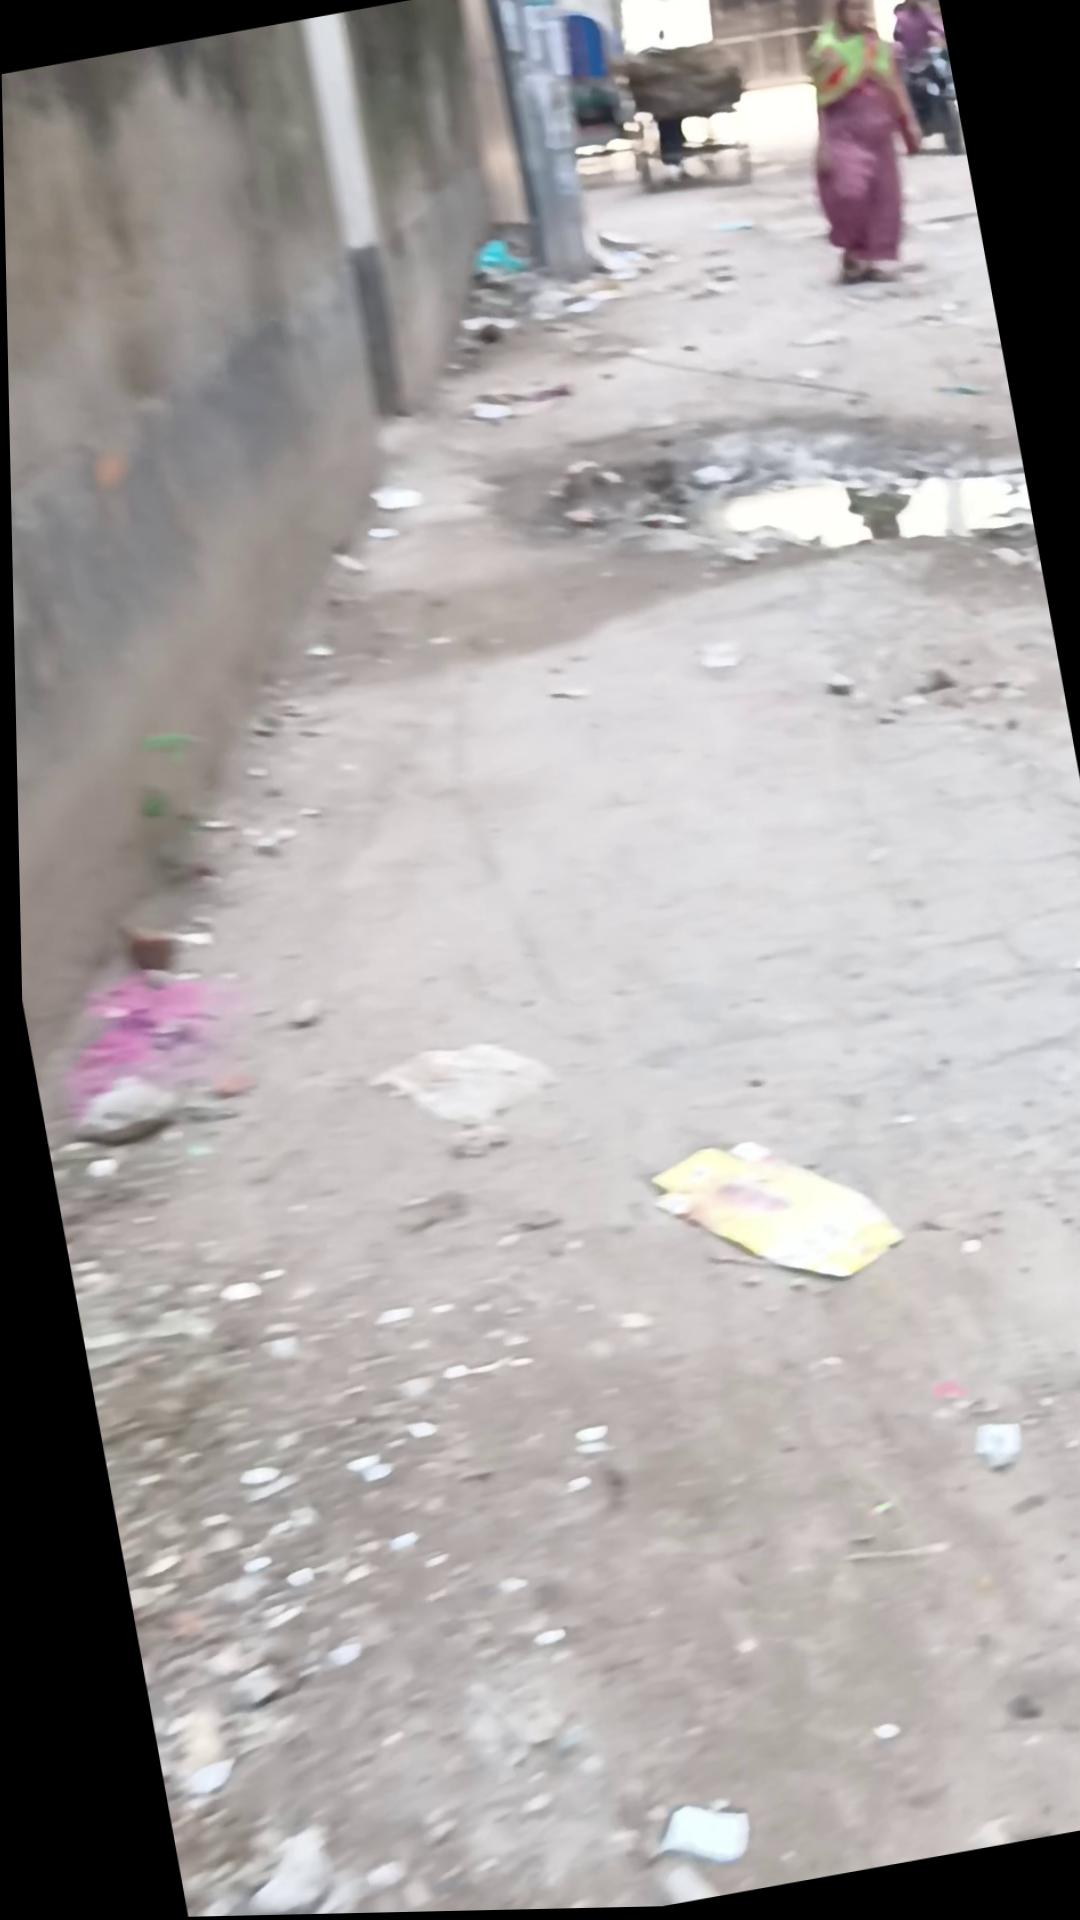Broken-road: (1, 90, 1080, 1920)
Motorcycle: (611, 32, 761, 202)
Muddy road: (775, 0, 945, 295), (880, 0, 964, 166)
Obstacle: (483, 0, 609, 290)
